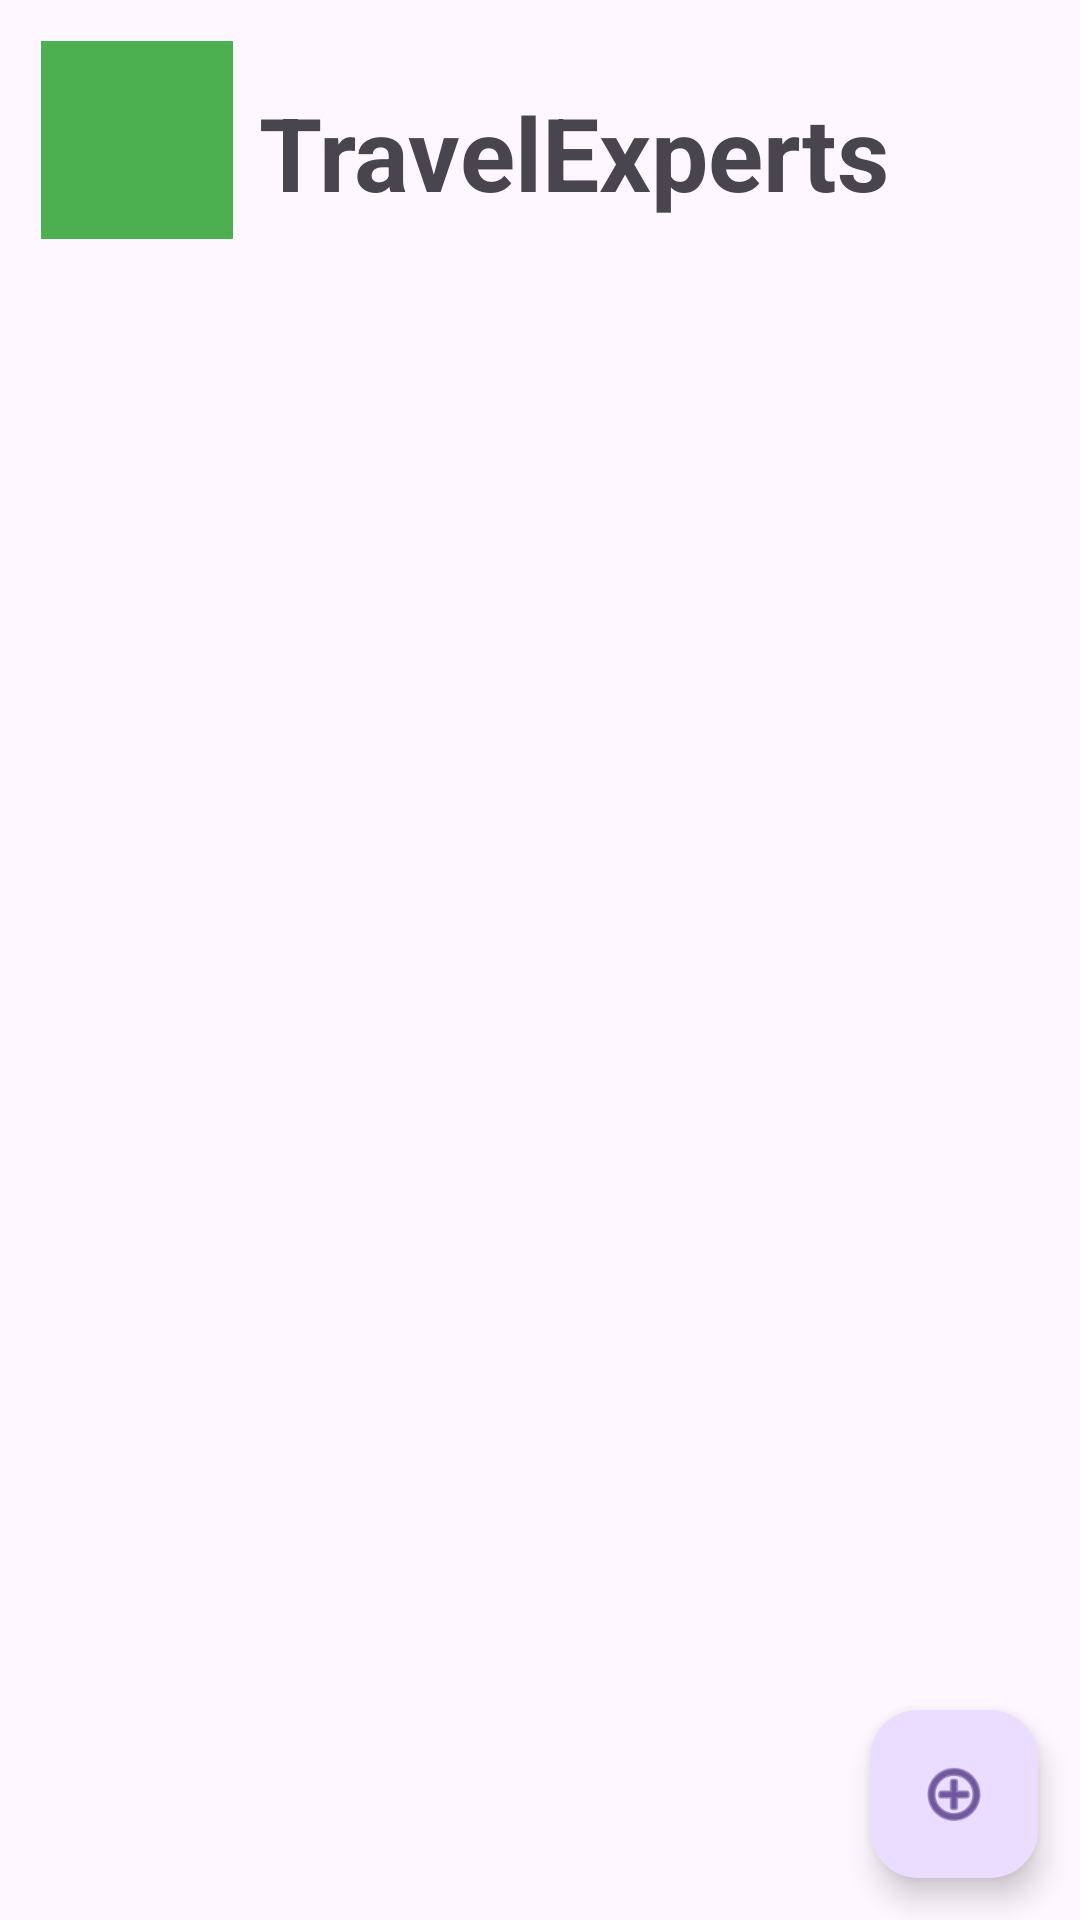

Screen size 1080w x 1920h. Icon name, then its box in pixels as (x1, y1, x2, y2):
add: (870, 1710, 1038, 1878)
